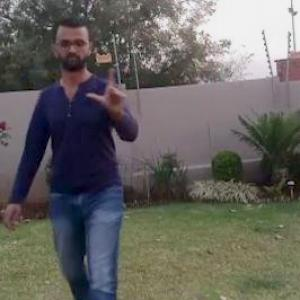land_hand: (83, 61, 131, 110)
